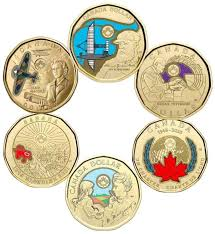coin: (69, 4, 145, 81), (136, 43, 210, 118), (66, 156, 140, 229), (4, 37, 76, 112), (4, 114, 77, 186), (133, 120, 206, 191)
